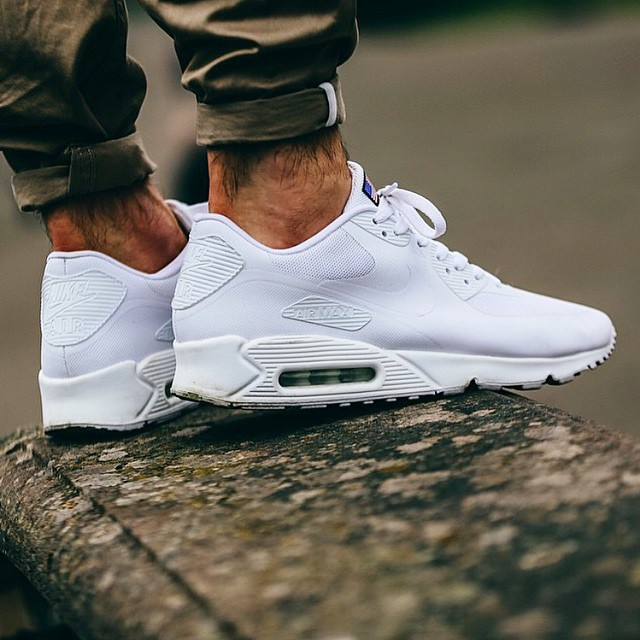sneaker: (152, 122, 629, 424), (6, 143, 227, 455)
